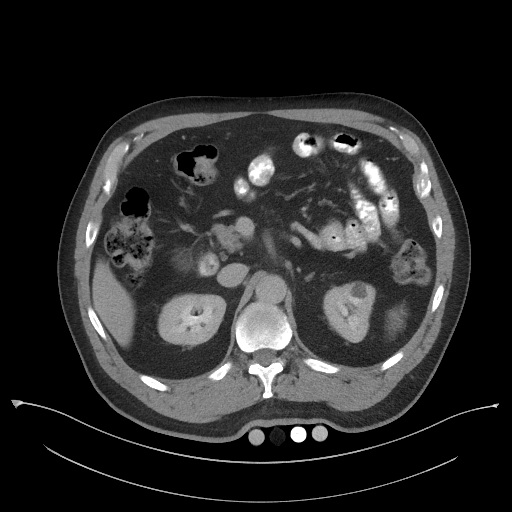Lesion: (348, 277, 370, 302)
